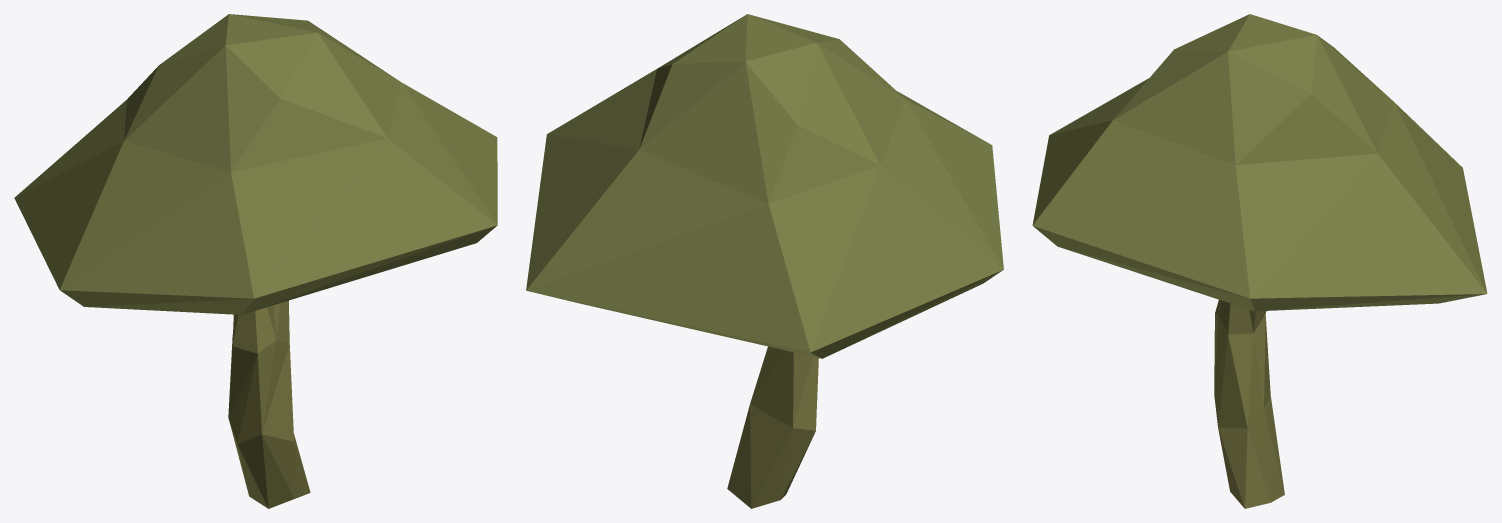
The model's file is SENE_NEEDAMA-003.FBX.
3 views of the same model, side by side, from view 1: azimuth 30°, elevation 25°; view 2: azimuth 150°, elevation 25°; view 3: azimuth 270°, elevation 25° (orthographic). The views are drawn at different scales.
Visible parts, largest first — view 1: SENE_NEEDAMA-003; view 2: SENE_NEEDAMA-003; view 3: SENE_NEEDAMA-003.
Part boxes in pixels (left/top/right/bottom): SENE_NEEDAMA-003: left=14, top=14, right=497, bottom=508; SENE_NEEDAMA-003: left=526, top=14, right=1003, bottom=508; SENE_NEEDAMA-003: left=1032, top=14, right=1487, bottom=508.
Bounding box in the file's own units: 916 × 914 × 821.
1 material, 1 textured.
